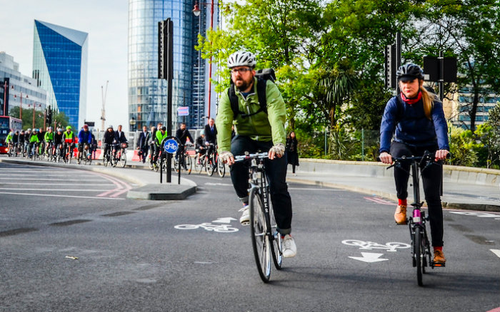bikerider: (215, 46, 308, 288), (377, 55, 456, 286), (198, 117, 232, 184)
